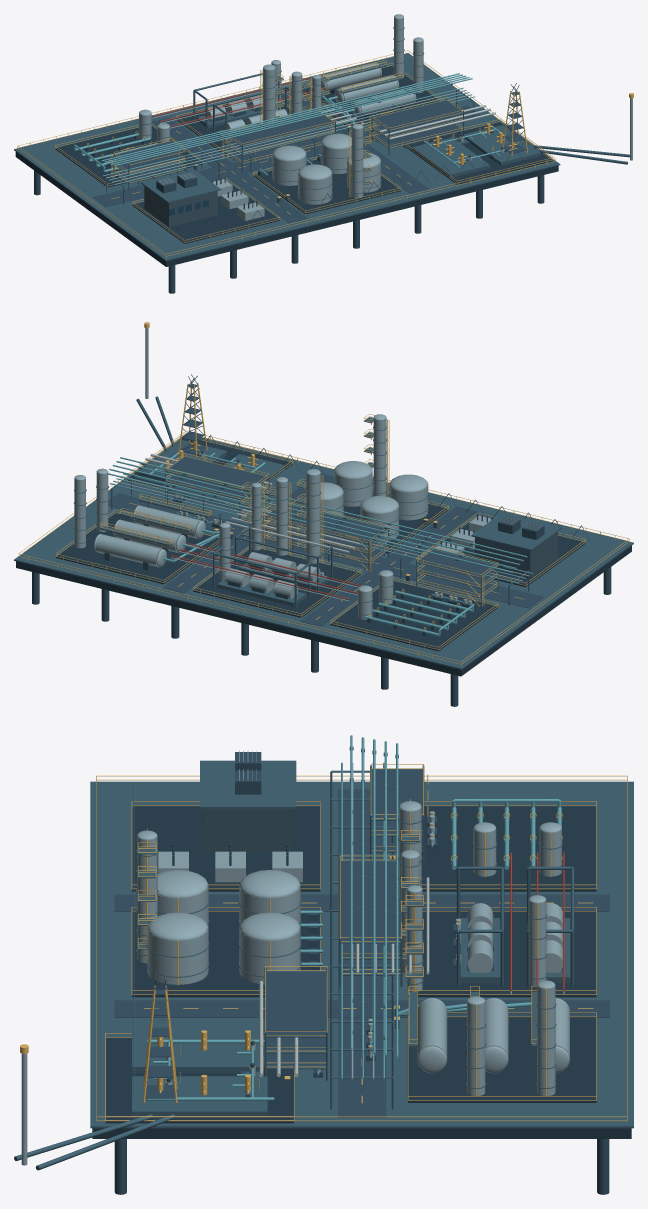
The model's file is plant-model.glb.
3 views of the same model, one above another, from view 1: azimuth 30°, elevation 25°; view 2: azimuth 150°, elevation 25°; view 3: azimuth 270°, elevation 25° (orthographic). The views are drawn at different scales.
Visible parts, largest first — view 1: Plant equipment (×51); view 2: Plant equipment (×44); view 3: Plant equipment (×60).
Boxes of the visible parts, x1=… form: Plant equipment (×51): x1=14, y1=17, x2=560, y2=266; Plant equipment (×44): x1=14, y1=417, x2=633, y2=676; Plant equipment (×60): x1=14, y1=735, x2=633, y2=1194.
Bounding box in the file's own units: 213 × 55.83 × 141.
